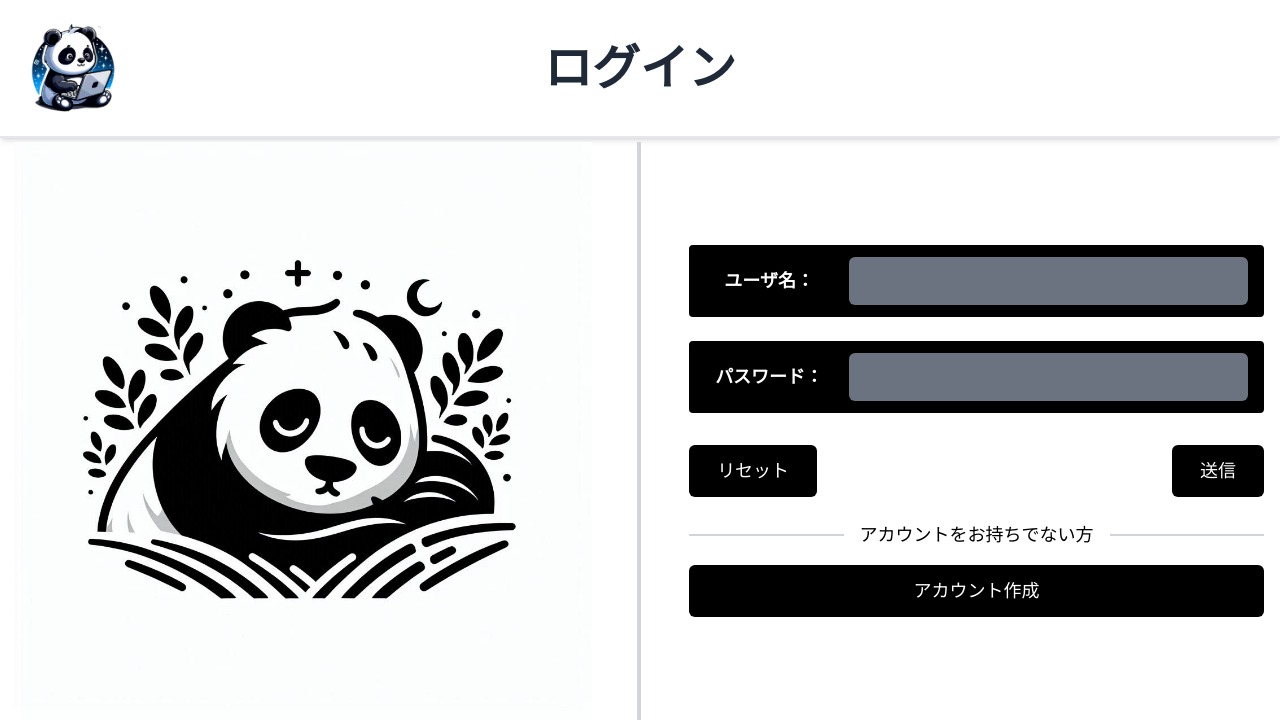
Test case: Login › フォーム送信処理 › サーバーエラーが発生した場合にエラーメッセージが表示される
This screenshot has width=1280, height=720.
フォームに値を入力
Type "testuser" into the field with test id "username" at point(1049, 281), box [849, 257, 1248, 305]
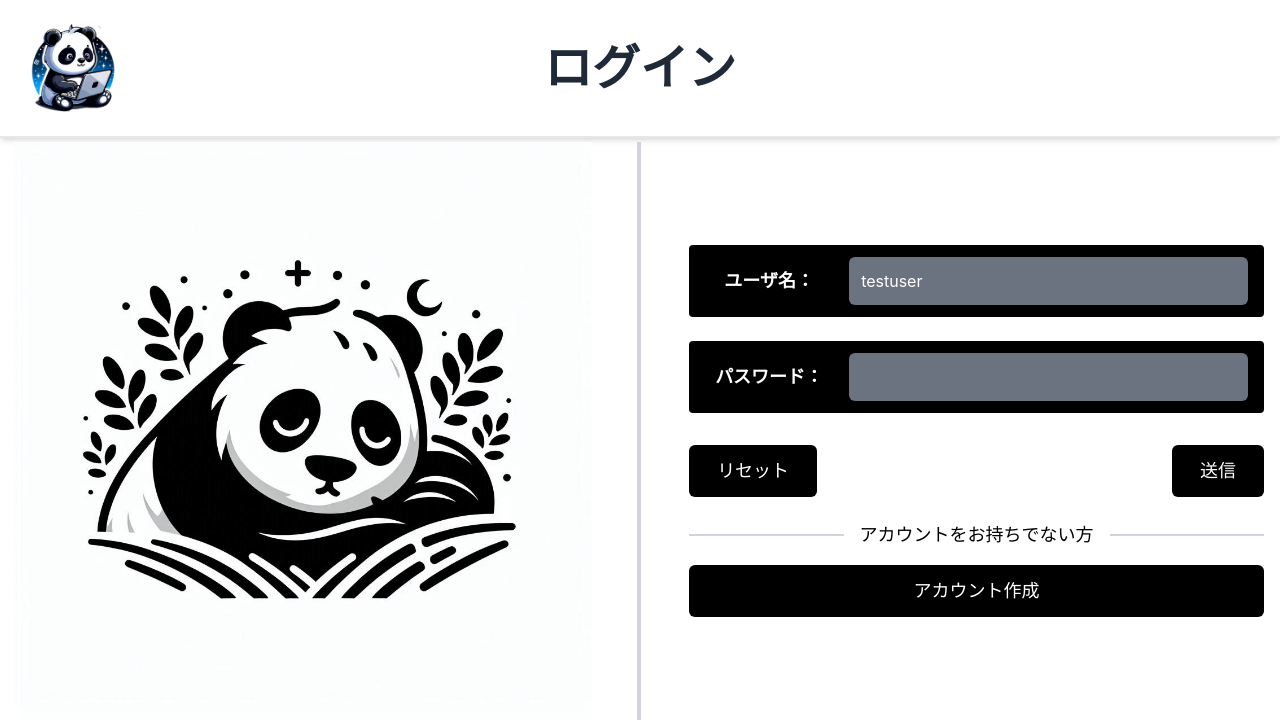
Type "password123" into the password field with test id "password" at point(1049, 377), box [849, 353, 1248, 401]
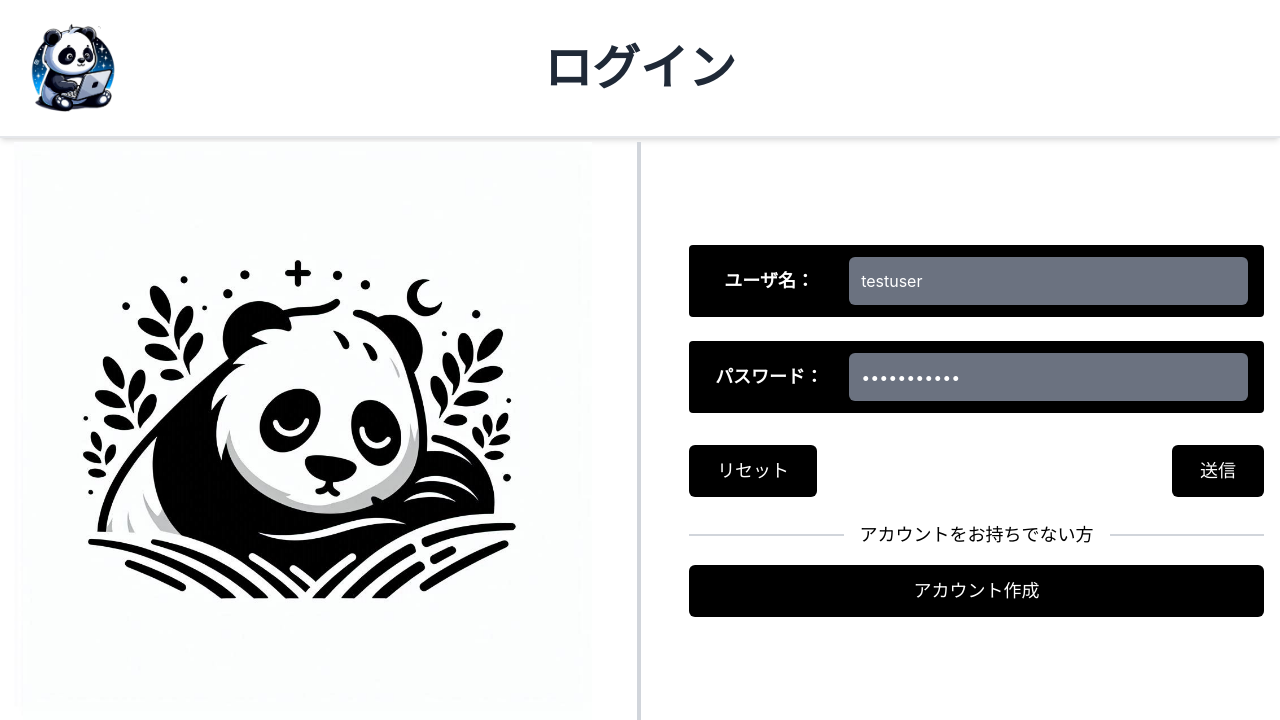
 フォームを送信
Submit the form, box [689, 245, 1264, 617]
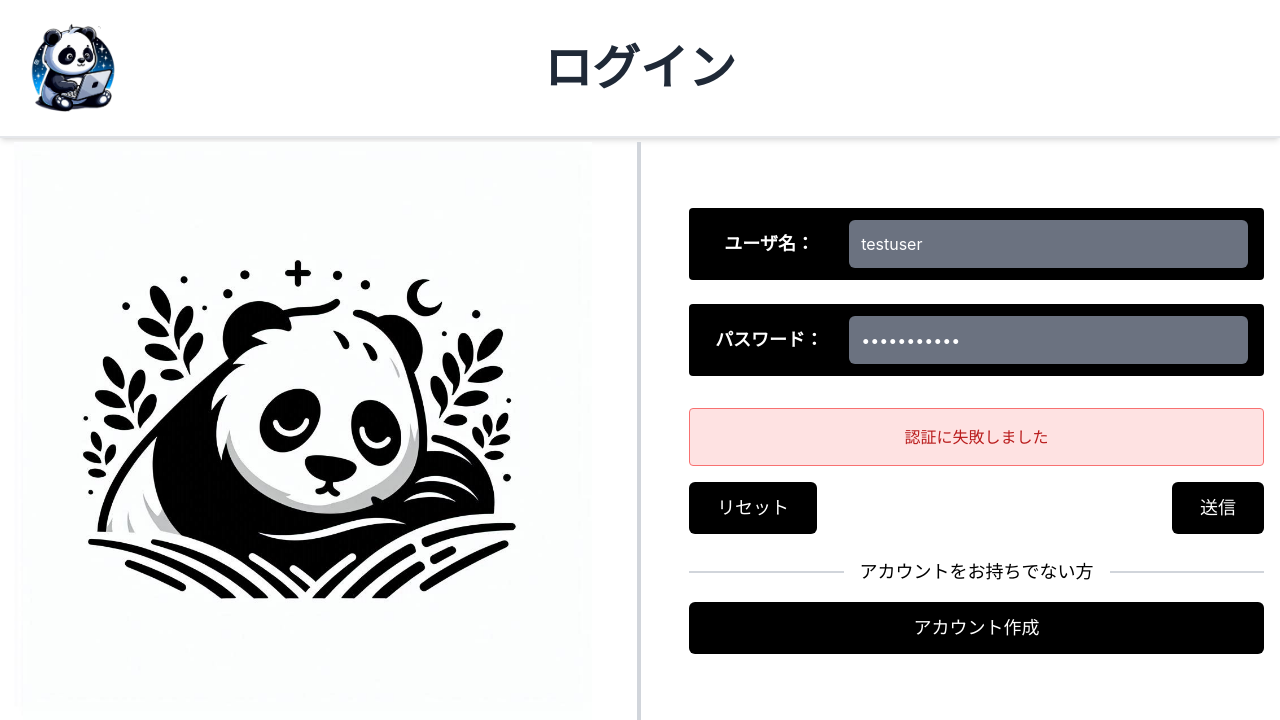
Result: the message with test id "error-message" reads "認証に失敗しました" at [904, 427, 1048, 447]
